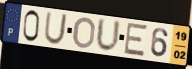0: (22, 9, 41, 43)
6: (151, 27, 169, 59)
E: (123, 21, 150, 58)
O: (72, 16, 97, 50)
U: (95, 17, 122, 55), (43, 11, 69, 46)
